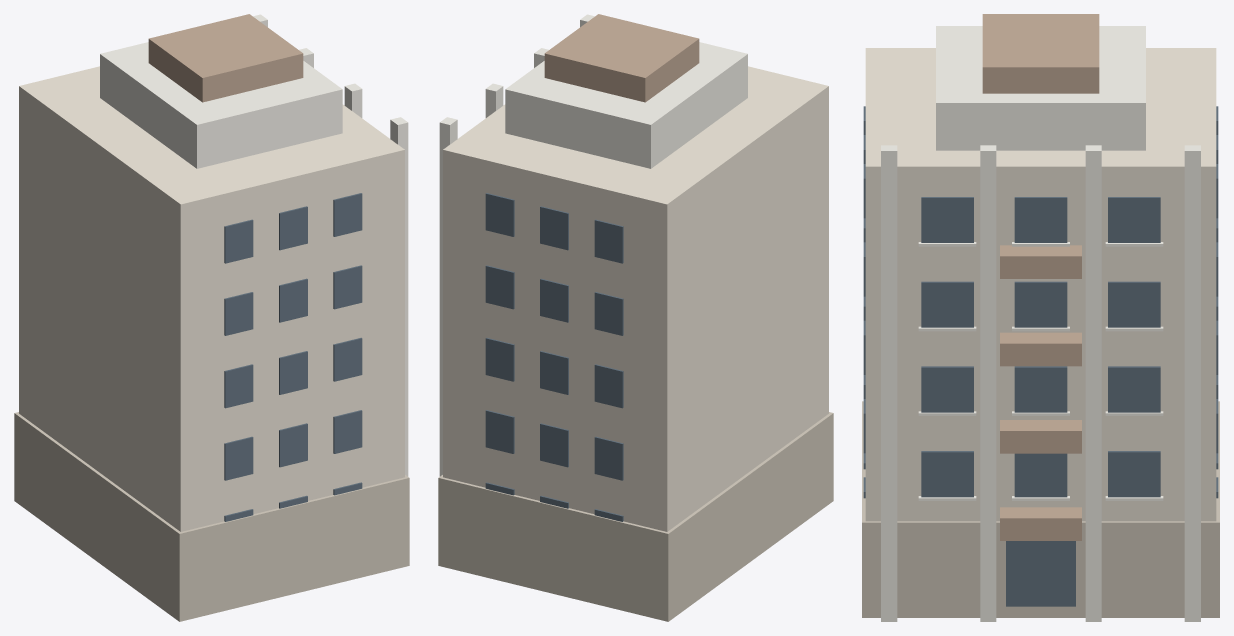
Rendered from rambla_building_5.glb.
3 renders of one model, left to right at view 1: azimuth 30°, elevation 25°; view 2: azimuth 150°, elevation 25°; view 3: azimuth 270°, elevation 25°, orthographic. The views are drawn at different scales.
Parts seen in each view (by area): view 1: RamblaBuilding_5; view 2: RamblaBuilding_5; view 3: RamblaBuilding_5.
Boxes of the visible parts, left/top/right/bottom form: RamblaBuilding_5: left=14, top=14, right=409, bottom=621; RamblaBuilding_5: left=438, top=14, right=833, bottom=621; RamblaBuilding_5: left=862, top=14, right=1219, bottom=621.
Size of the model in its own units: 10.62 by 19.8 by 12.25.
